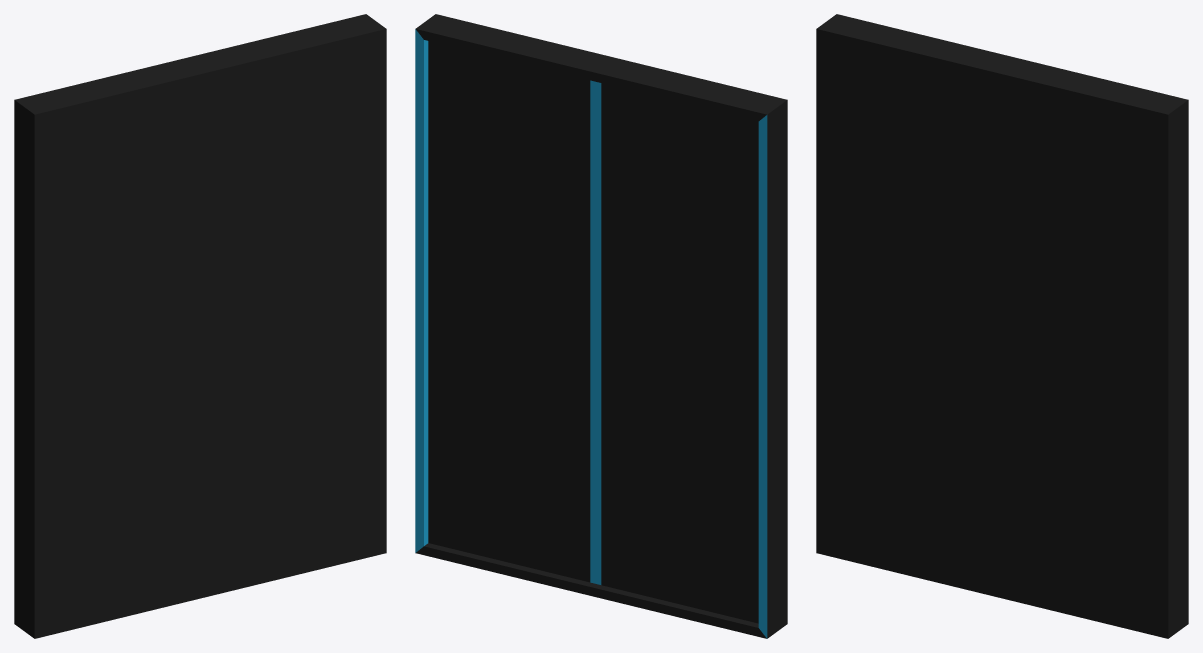
Rendered from PathMain.fbx.
The picture shows the model from 3 angles, left to right: view 1: azimuth 30°, elevation 25°; view 2: azimuth 150°, elevation 25°; view 3: azimuth 330°, elevation 25°; orthographic projection.
Visible parts, largest first — view 1: Cube; view 2: Cube; view 3: Cube.
Boxes of the visible parts, x1,y1,x2,y2 form: Cube: [14, 14, 386, 638]; Cube: [415, 14, 787, 638]; Cube: [816, 14, 1188, 638].
Bounding box in the file's own units: 10 × 14.24 × 1.
